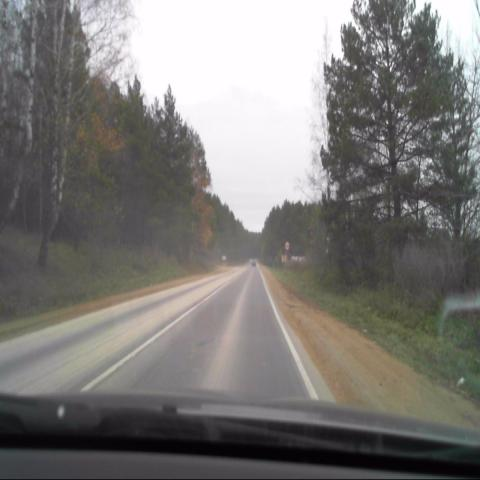3_20: (284, 240, 291, 251)
